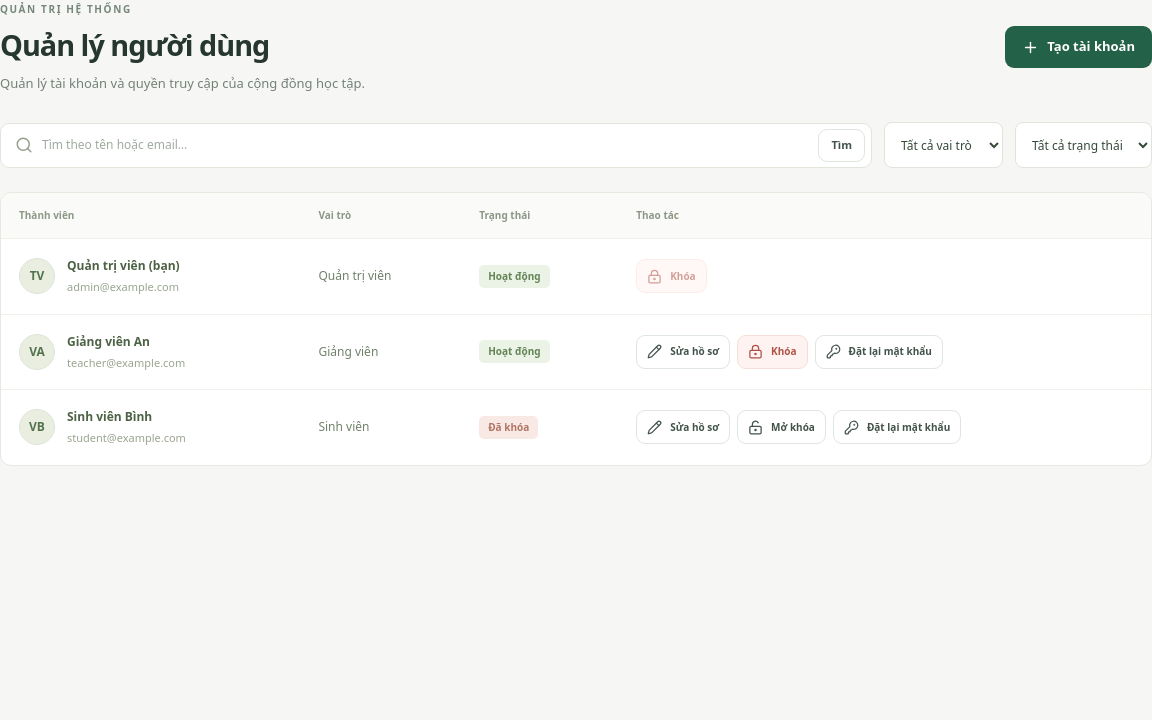
Test: still creates new student accounts with the create form
Expected: the text "Giảng viên An" is shown, [67, 333, 150, 350]
Click the button "Tạo tài khoản": [1079, 47] box [1005, 26, 1151, 68]
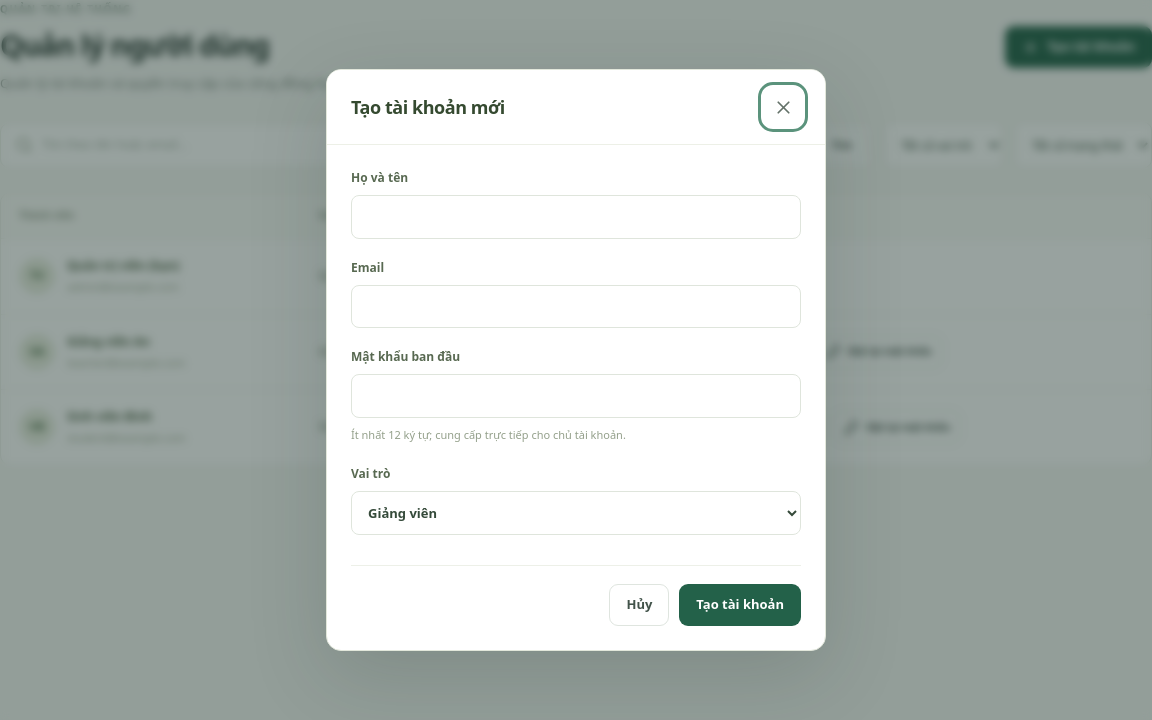
In the field labelled "Họ và tên": [576, 217] box [351, 195, 801, 239], type "Sinh viên mới"
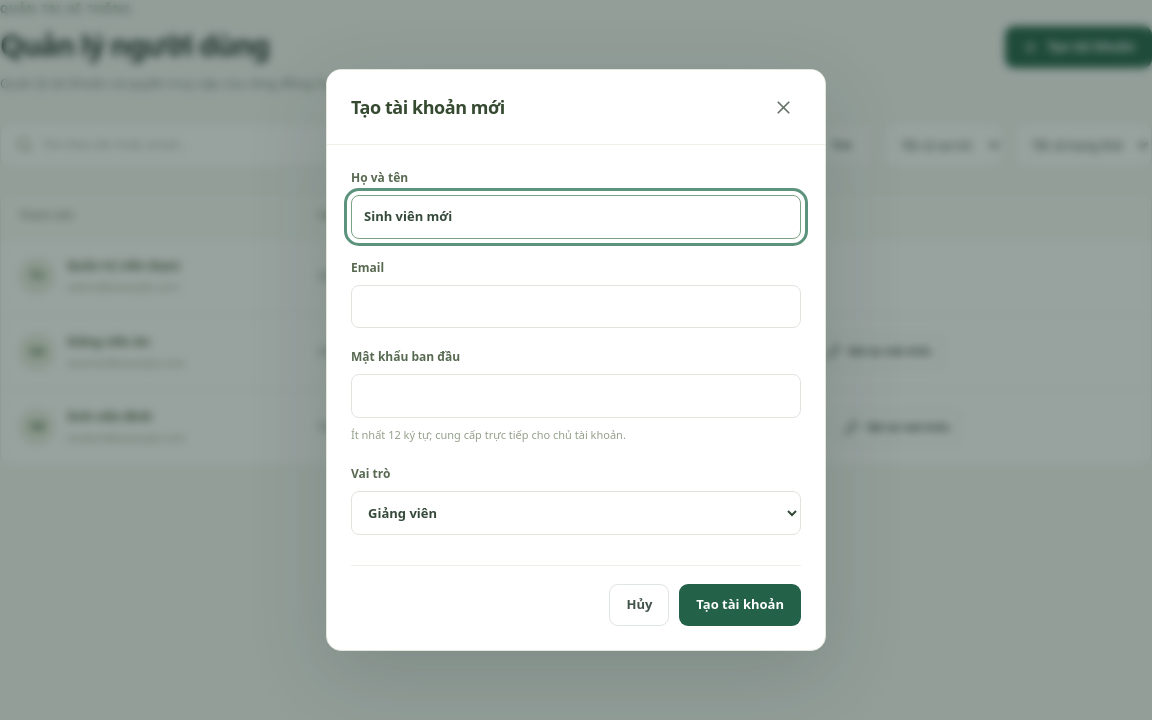
In the field labelled "Email": [576, 307] box [351, 285, 801, 328], type "NEW@example.com"
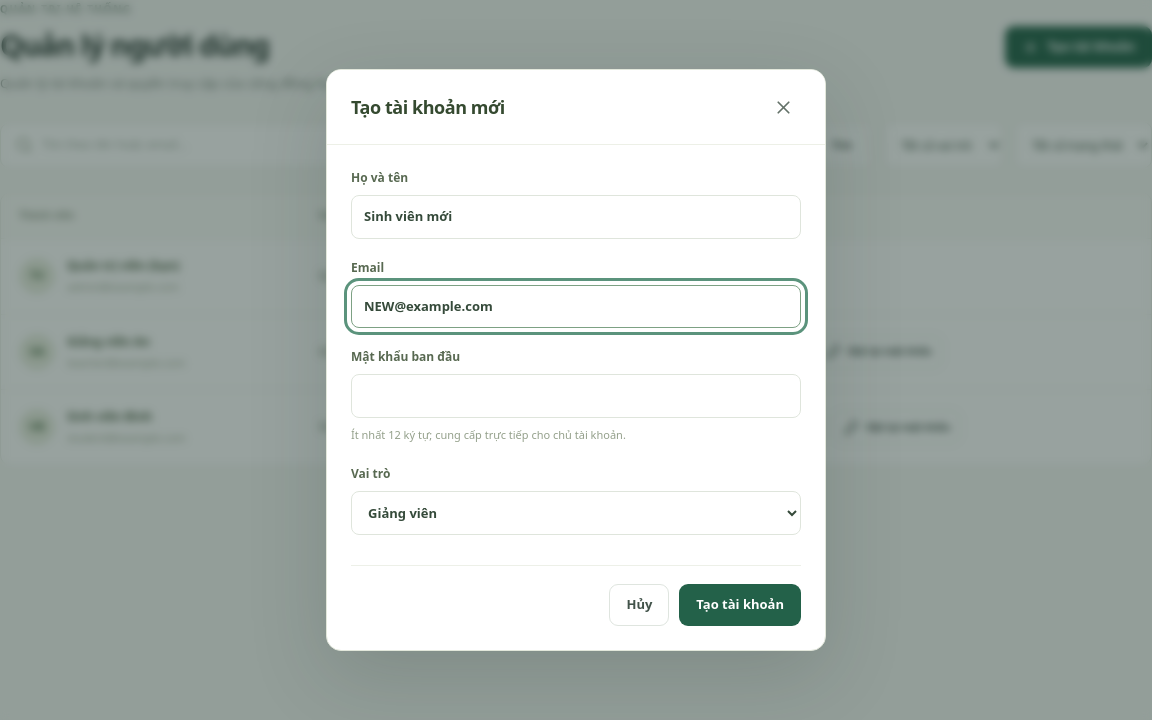
In the password field labelled "Mật khẩu ban đầu": [576, 396] box [351, 374, 801, 418], type "CreateStudentPassword123!"
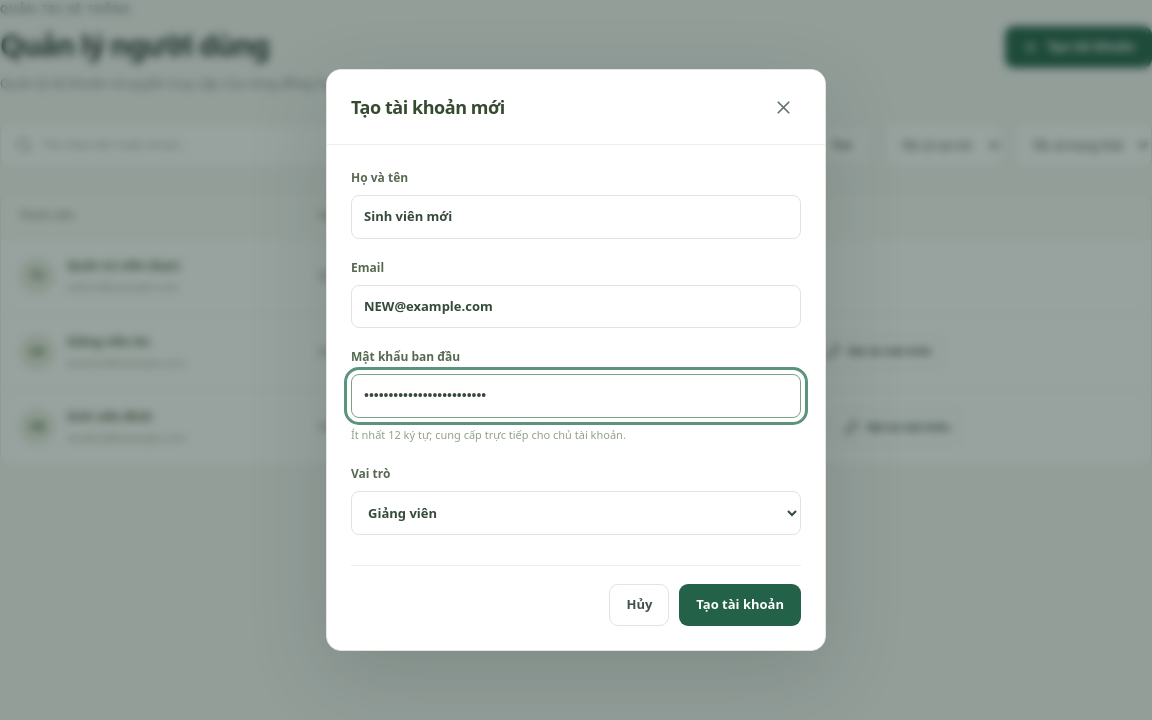
Select "Sinh viên" in the dropdown labelled "Vai trò": [576, 513] box [351, 491, 801, 535]
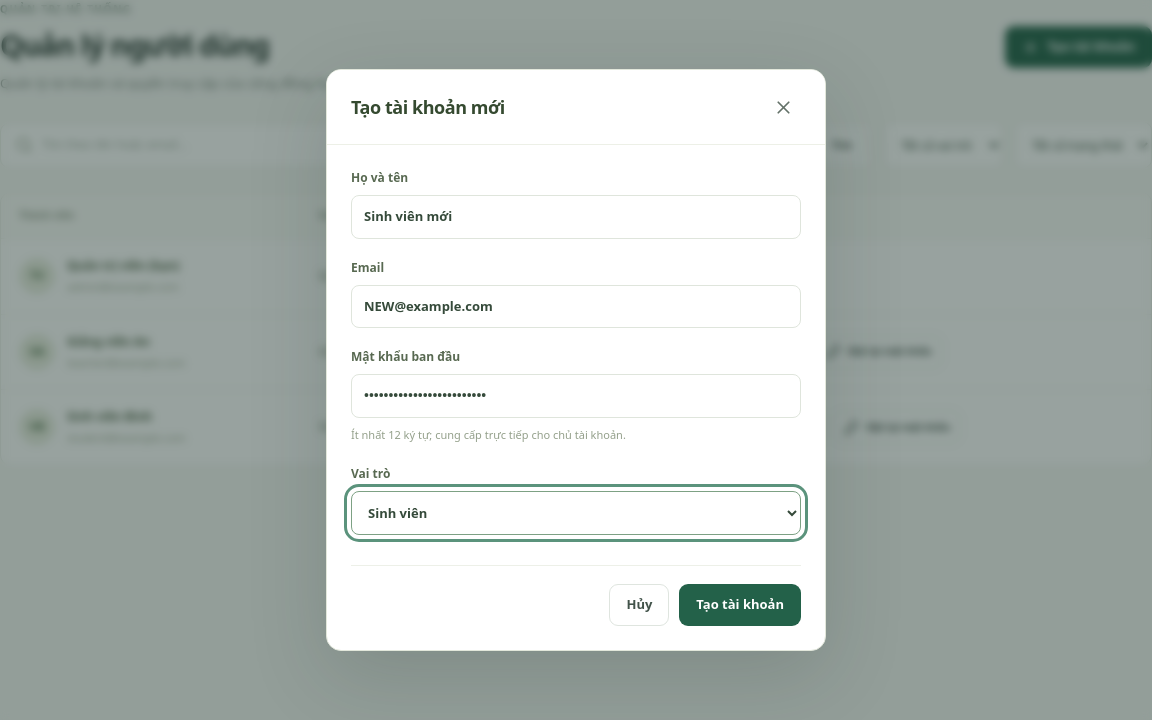
Click the button "Tạo tài khoản": [740, 605] box [679, 584, 801, 626]
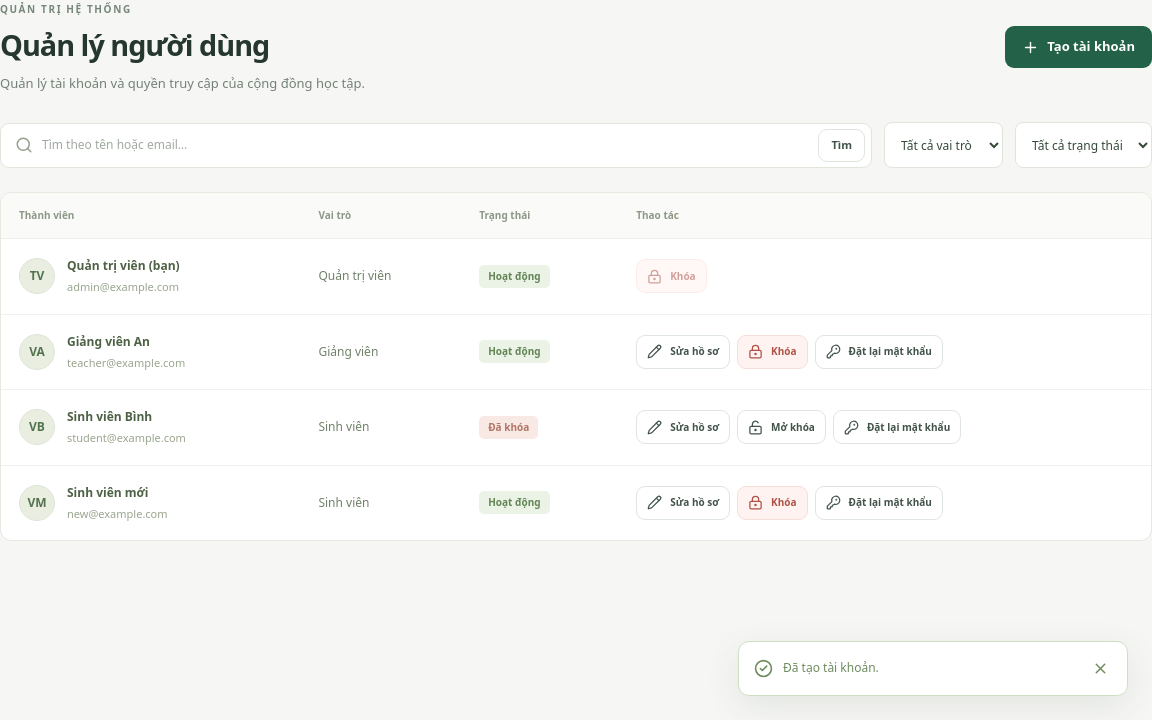
Expected: the text "new@example.com" is shown, [67, 506, 168, 522]
